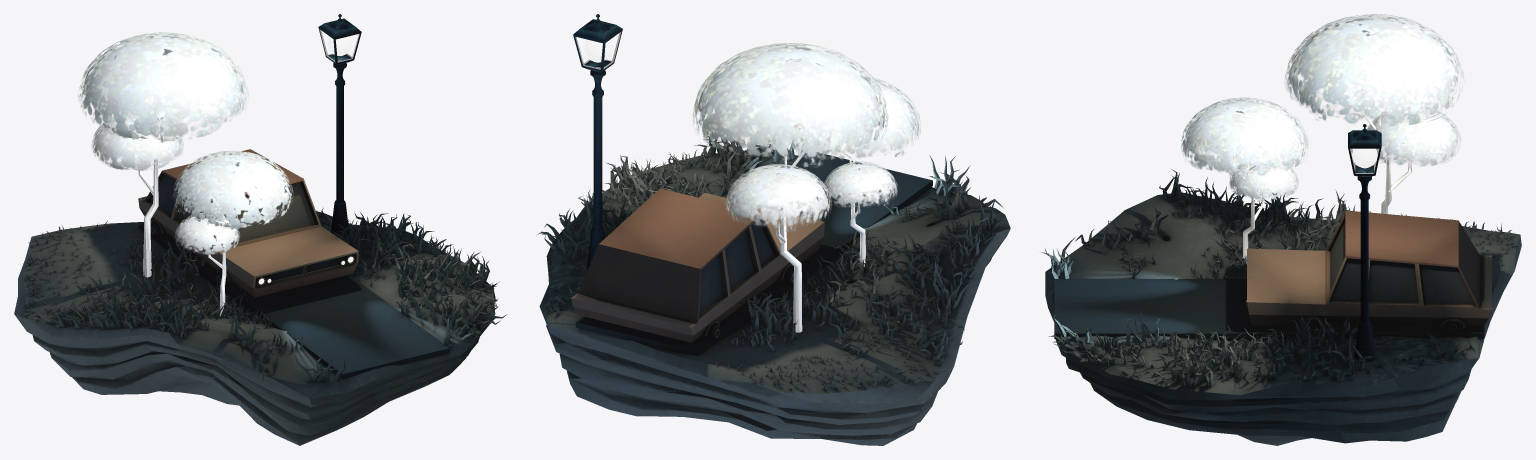
3 renders of one model, left to right at view 1: azimuth 30°, elevation 25°; view 2: azimuth 150°, elevation 25°; view 3: azimuth 270°, elevation 25°, orthographic. The views are drawn at different scales.
Parts seen in each view (by area): view 1: Cube_1, Hair_1, Tree_1_1, Auto_1_1, Tree_1_1_1, paal; view 2: Cube_1, Tree_1_1, Hair_1, Auto_1_1, Tree_1_1_1, paal, Sphere; view 3: Cube_1, Auto_1_1, Tree_1_1, Hair_1, Tree_1_1_1, paal.
Boxes of the visible parts, <box> form: Cube_1: <box>14,211,495,445</box>; Hair_1: <box>19,208,506,384</box>; Tree_1_1: <box>78,32,248,277</box>; Auto_1_1: <box>138,149,358,297</box>; Tree_1_1_1: <box>172,150,293,315</box>; paal: <box>318,14,361,237</box>; Cube_1: <box>539,147,1010,445</box>; Tree_1_1: <box>692,43,888,332</box>; Hair_1: <box>537,131,1003,391</box>; Auto_1_1: <box>571,188,824,342</box>; Tree_1_1_1: <box>790,76,920,266</box>; paal: <box>573,14,622,270</box>; Sphere: <box>584,40,611,62</box>; Cube_1: <box>1045,192,1521,445</box>; Auto_1_1: <box>1246,210,1491,332</box>; Tree_1_1: <box>1284,14,1464,213</box>; Hair_1: <box>1041,169,1518,387</box>; Tree_1_1_1: <box>1181,97,1308,262</box>; paal: <box>1348,124,1381,361</box>.
Size of the model in its own units: 706 by 638 by 744.
7 materials, 5 textured.
